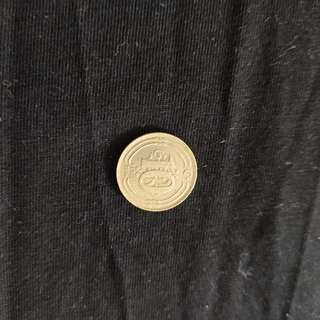10KURUS: (114, 130, 199, 212)
